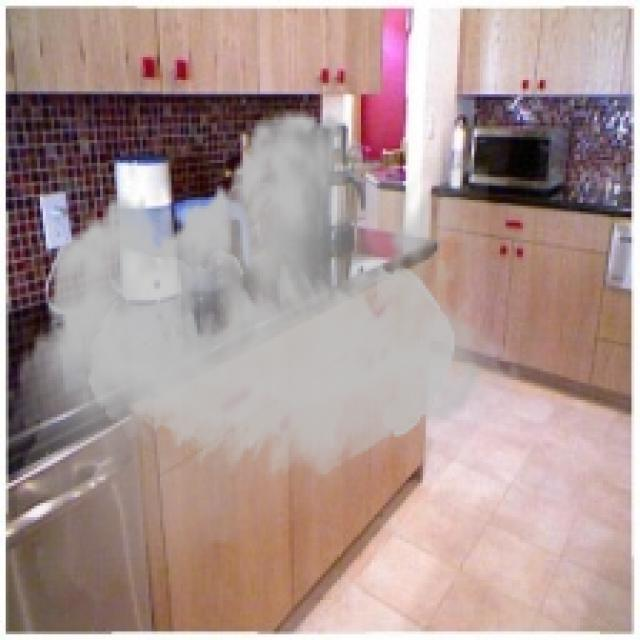smoke: (6, 89, 523, 628)
